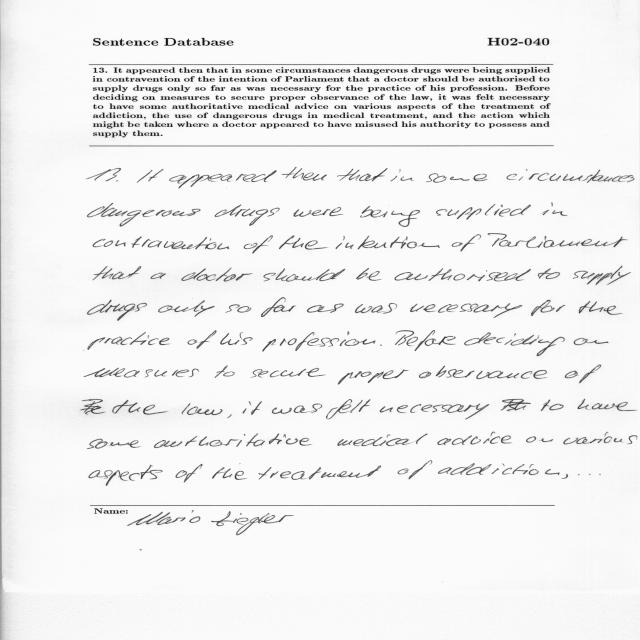word: (460, 234, 628, 252), (88, 203, 201, 227), (464, 333, 565, 357), (262, 331, 376, 352), (154, 433, 312, 448), (169, 171, 277, 189), (258, 465, 381, 480), (507, 169, 635, 183), (93, 237, 230, 250), (395, 268, 531, 281), (380, 404, 489, 420), (410, 303, 522, 318), (419, 366, 547, 379), (89, 465, 163, 486), (436, 204, 531, 220), (88, 332, 170, 350), (438, 463, 560, 475), (214, 204, 280, 226), (81, 399, 167, 415), (336, 236, 440, 249), (395, 330, 456, 351), (360, 206, 420, 227), (87, 300, 147, 321), (84, 368, 199, 378), (573, 266, 631, 285), (338, 434, 428, 446), (264, 269, 346, 282), (338, 370, 409, 385), (181, 268, 252, 282), (437, 432, 512, 445), (158, 300, 215, 317), (563, 432, 637, 445), (326, 400, 371, 420), (501, 399, 564, 411), (251, 368, 326, 378), (577, 399, 637, 411), (261, 297, 296, 317), (279, 236, 328, 250), (93, 266, 141, 280), (337, 168, 388, 181), (565, 365, 601, 383), (398, 461, 432, 480), (281, 167, 327, 181), (426, 173, 487, 183), (579, 301, 622, 315), (212, 463, 247, 480), (188, 330, 217, 349), (272, 403, 322, 414), (531, 300, 565, 316), (88, 439, 141, 449), (244, 236, 273, 254), (294, 207, 344, 217), (182, 404, 223, 416), (176, 464, 203, 482), (355, 303, 397, 314), (87, 168, 121, 181), (220, 332, 253, 345), (307, 303, 344, 313), (137, 169, 163, 183), (542, 203, 568, 216), (356, 268, 381, 281), (391, 169, 413, 182), (242, 401, 262, 415), (215, 365, 235, 378), (574, 338, 609, 345), (538, 268, 560, 279), (226, 304, 251, 313), (526, 437, 553, 443), (151, 273, 166, 279), (452, 242, 463, 247), (561, 474, 568, 479), (227, 415, 232, 419), (380, 344, 382, 346), (578, 474, 580, 476), (116, 181, 118, 182)
